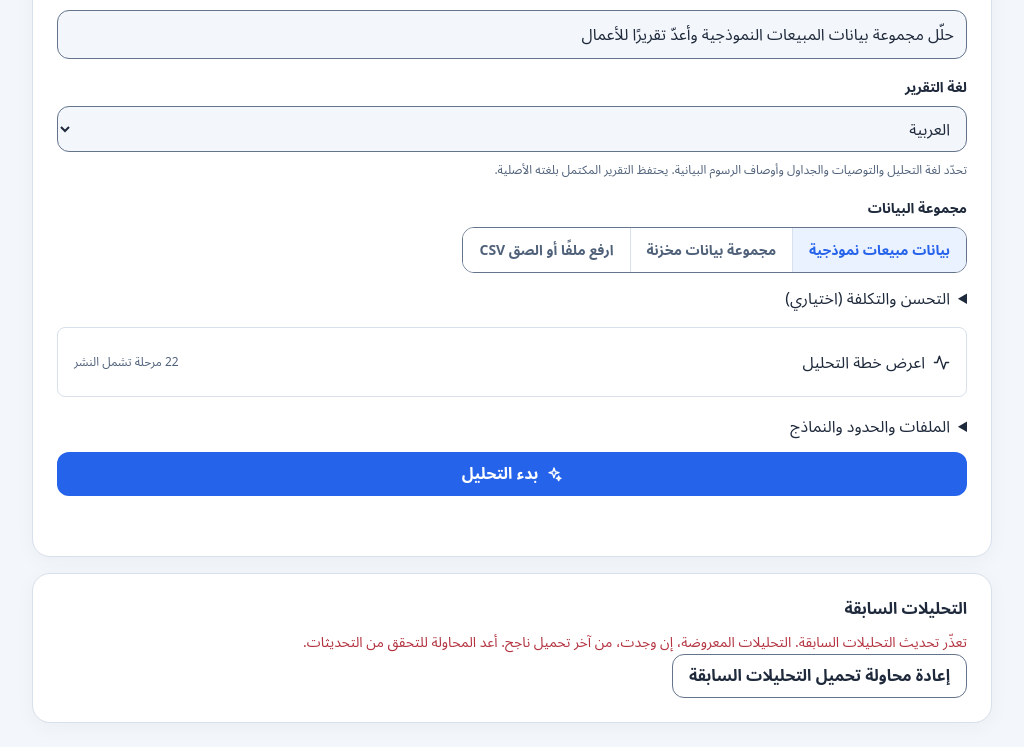
Test: recoverable analysis navigation › recovers failed history in Arabic without a run creation
This screenshot has width=1024, height=747.
(page scrolled)
Expected: the text "تعذّر تحديث التحليلات السابقة" is shown, x1=303 y1=632 x2=967 y2=651
Click the button "إعادة محاولة تحميل التحليلات السابقة": point(819, 676) x1=672 y1=654 x2=967 y2=698
(page scrolled)
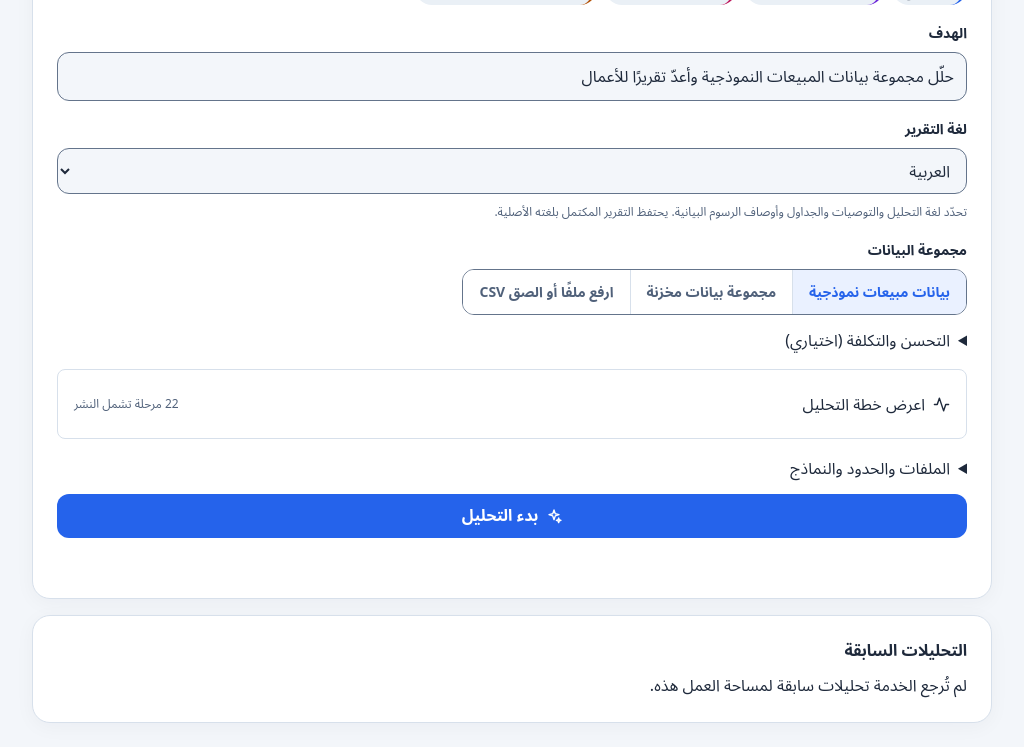
Result: the text "لم تُرجع الخدمة تحليلات سابقة لمساحة العمل هذه." is shown at x1=650 y1=674 x2=967 y2=696
